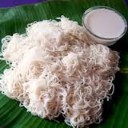idiyappam: (30, 55, 116, 123), (3, 17, 80, 79)
